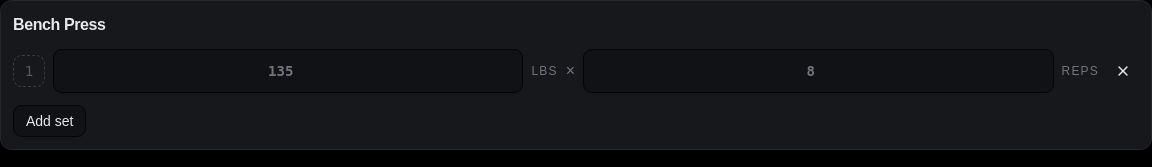
it: SessionExerciseCard set fields › leaves a measurement typed moments earlier alone when the accept lands after it
The image size is (1152, 167).
Type "145" into the number field named "Set 1 weight (lbs) for Bench Press". click: (288, 71)
box: [53,49,523,93]
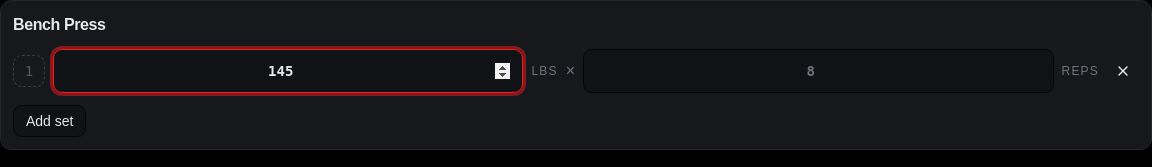
Click the number field named "Set 1 reps for Bench Press". click: (818, 71)
box: [583,49,1054,93]
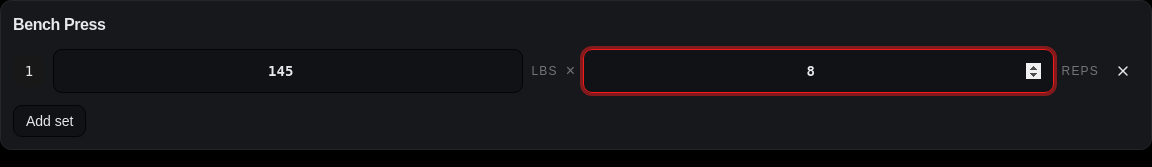
Now the number field named "Set 1 reps for Bench Press" holds "8", box [583,49,1054,93]
